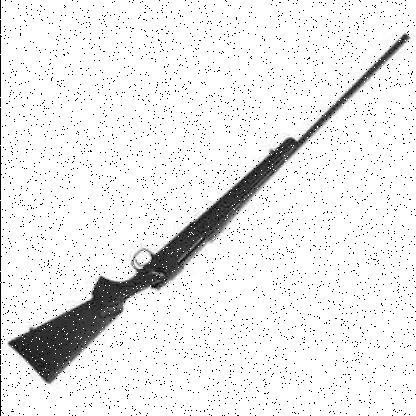rifle: (2, 24, 414, 401)
